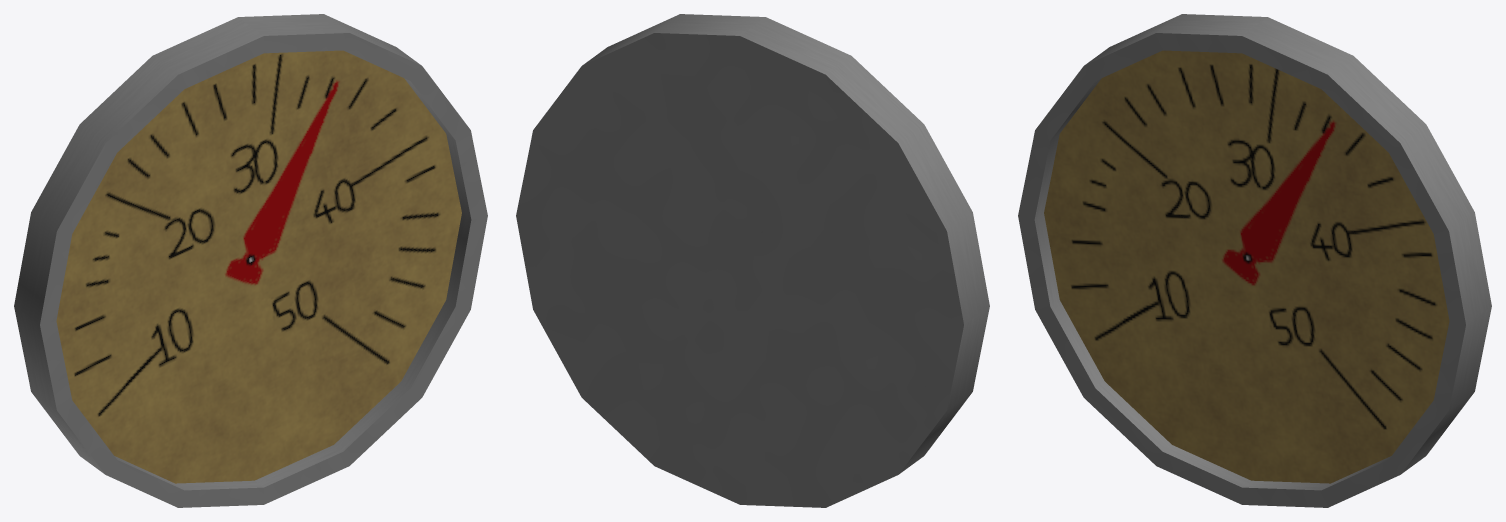
The model's file is PressureMeter.fbx.
3 renders of one model, left to right at view 1: azimuth 30°, elevation 25°; view 2: azimuth 150°, elevation 25°; view 3: azimuth 330°, elevation 25°, orthographic.
Visible parts, largest first — view 1: PressureMeter; view 2: PressureMeter; view 3: PressureMeter.
Boxes of the visible parts, x1,y1,x2,y2 form: PressureMeter: [14, 14, 487, 507]; PressureMeter: [516, 14, 989, 507]; PressureMeter: [1018, 14, 1491, 507].
Size of the model in its own units: 0.3 by 0.3 by 0.03.
